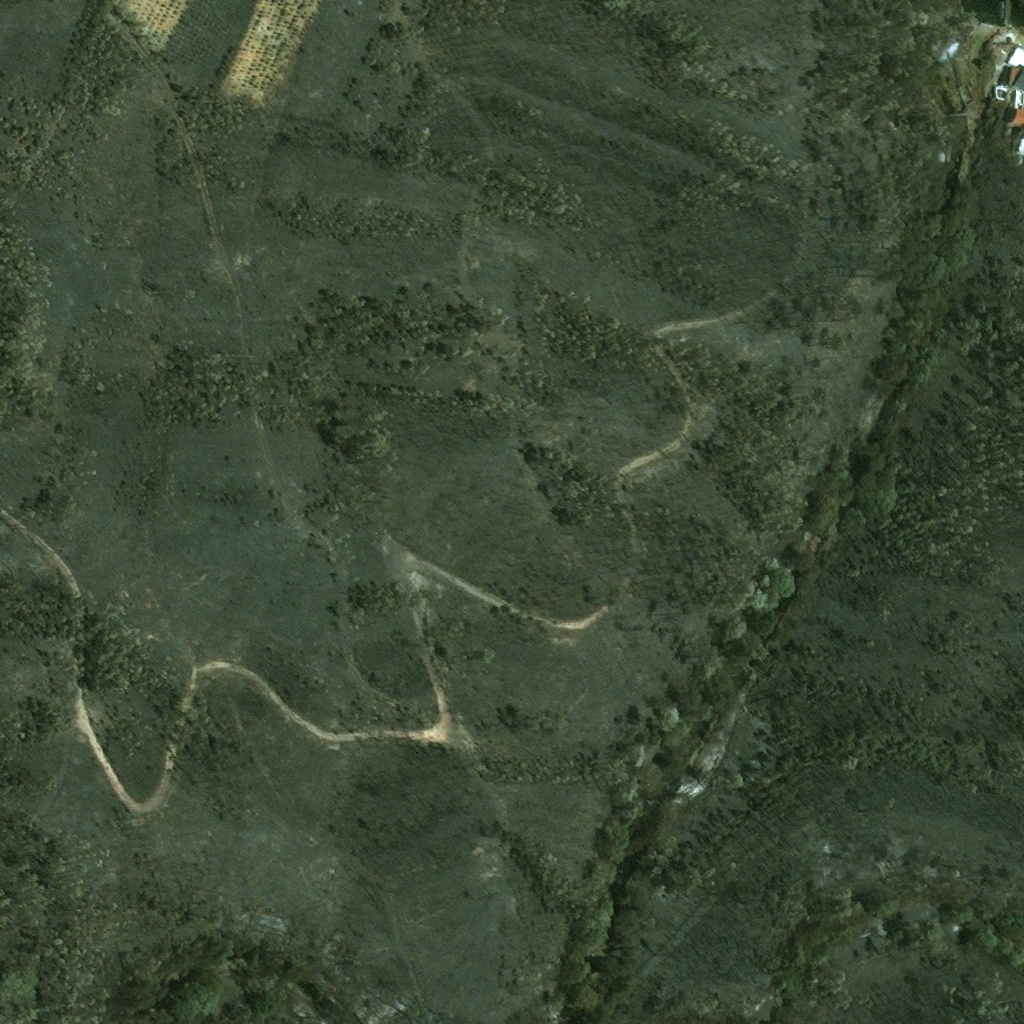0 no-damage: (1004, 103, 1023, 128), (1010, 68, 1023, 93), (1015, 93, 1023, 102)
